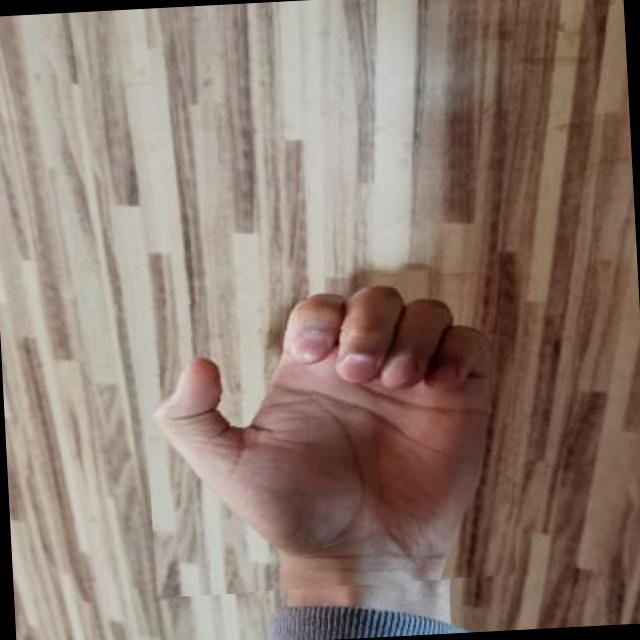E: (140, 270, 526, 599)
